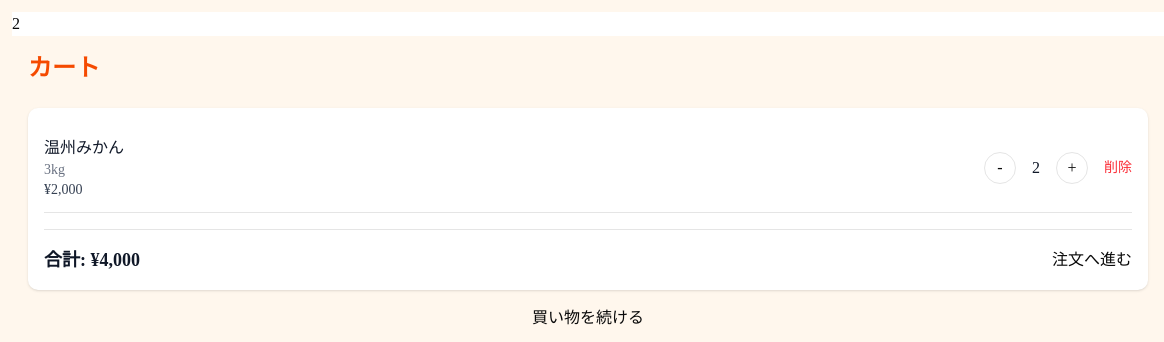
Test case: CartContent › 数量更新時のカウント更新 › 数量増加時にカウントが差分だけ更新される
Click the button "+" at (1072, 168), box left=1056, top=152, right=1088, bottom=184
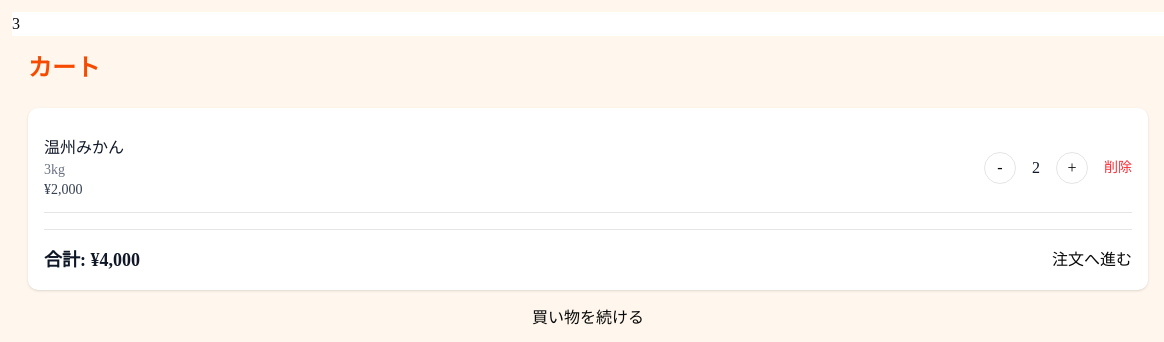
Now the text with test id "cart-count" reads "3", box left=12, top=15, right=20, bottom=32
